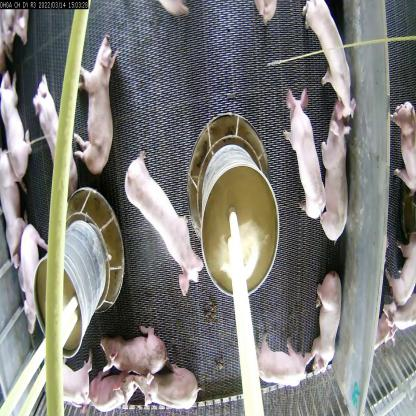Pig: (120, 147, 206, 301), (299, 0, 361, 125), (72, 27, 122, 178), (280, 79, 329, 225), (30, 67, 82, 203), (316, 99, 353, 250), (13, 220, 56, 343), (249, 324, 317, 395), (0, 67, 34, 196), (94, 326, 174, 380), (129, 362, 203, 414), (315, 268, 344, 386), (48, 352, 99, 415), (0, 148, 26, 271), (81, 361, 138, 413), (389, 89, 415, 197), (384, 222, 415, 308), (378, 296, 416, 348)
